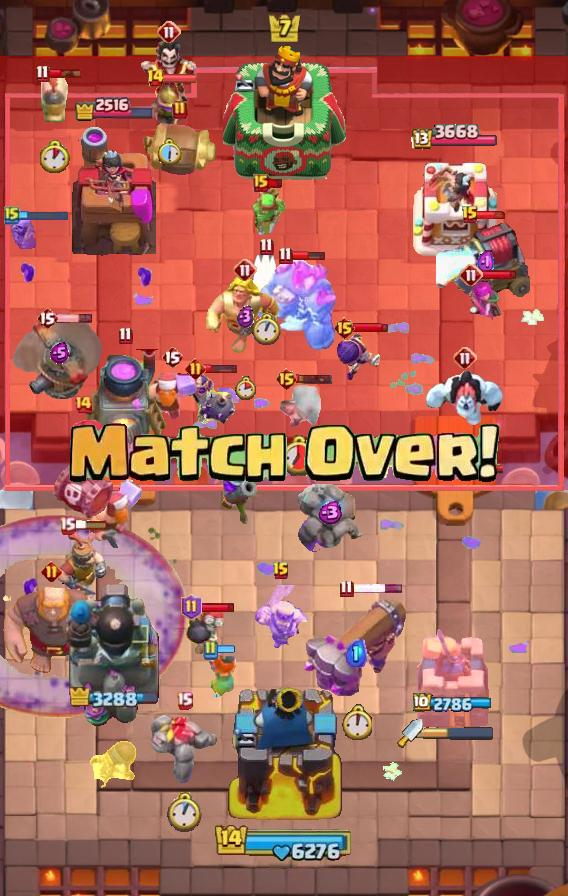archer: (465, 278, 507, 326)
bandit: (275, 380, 323, 432)
bar: (351, 583, 404, 594), (17, 210, 69, 221), (296, 373, 333, 385), (73, 519, 109, 531), (353, 322, 389, 334), (47, 67, 83, 79), (203, 362, 238, 374), (199, 602, 236, 613), (56, 313, 93, 324), (481, 269, 518, 280), (290, 250, 326, 261), (162, 73, 198, 84), (476, 210, 508, 220), (216, 644, 235, 655), (267, 178, 284, 189)
bar-level: (453, 346, 477, 370), (459, 263, 483, 287), (233, 258, 257, 282), (157, 20, 181, 44), (275, 367, 298, 391), (333, 316, 356, 340), (181, 594, 202, 620), (161, 345, 183, 369), (36, 306, 58, 330), (41, 561, 62, 582), (185, 358, 206, 379), (73, 394, 93, 414), (146, 68, 165, 88), (272, 561, 290, 581), (461, 205, 479, 225), (176, 691, 193, 710), (59, 516, 76, 535), (202, 640, 218, 660), (4, 205, 20, 225), (172, 100, 188, 120), (253, 174, 269, 192), (339, 579, 354, 598), (118, 326, 133, 345), (278, 246, 293, 265), (259, 237, 274, 256), (35, 64, 50, 83)
barbarian-barrel: (140, 123, 220, 177)
barbarian-evolution: (254, 585, 309, 650)
bomber: (184, 603, 226, 655)
bomber-evolution: (183, 371, 237, 427), (87, 739, 139, 793), (336, 329, 384, 383)
cannoneer-tower: (63, 579, 165, 731)
clock: (279, 434, 319, 476), (167, 792, 202, 833), (341, 704, 372, 740), (40, 140, 70, 173), (252, 313, 281, 346), (156, 138, 182, 166), (235, 376, 256, 400)
dagger-duchess-tower: (414, 623, 492, 731)
dagger-duchess-tower-bar: (423, 726, 495, 740)
electro-wizard: (138, 41, 200, 117)
elixir: (315, 501, 343, 524), (346, 639, 367, 667), (477, 249, 495, 276), (50, 342, 69, 364), (237, 305, 254, 328)
golemite: (148, 713, 220, 785), (294, 484, 364, 552)
ice-spirit: (245, 246, 287, 300)
king-tower: (223, 680, 345, 826), (223, 44, 346, 181)
king-tower-bar: (214, 822, 354, 862)
lumberjack: (87, 476, 145, 552), (139, 367, 205, 431)
musketeer: (149, 79, 191, 153), (219, 459, 257, 525)
queen-tower: (72, 122, 156, 256), (409, 154, 497, 256)
royal-hog: (39, 72, 71, 124)
royal-recruit: (52, 521, 110, 603)
skeleton: (10, 213, 36, 249)
spear-goblin: (248, 187, 292, 235)
tower-bar: (409, 124, 497, 152), (73, 95, 155, 122), (69, 687, 159, 711), (413, 693, 494, 714)
valkyrie: (203, 650, 241, 702)
